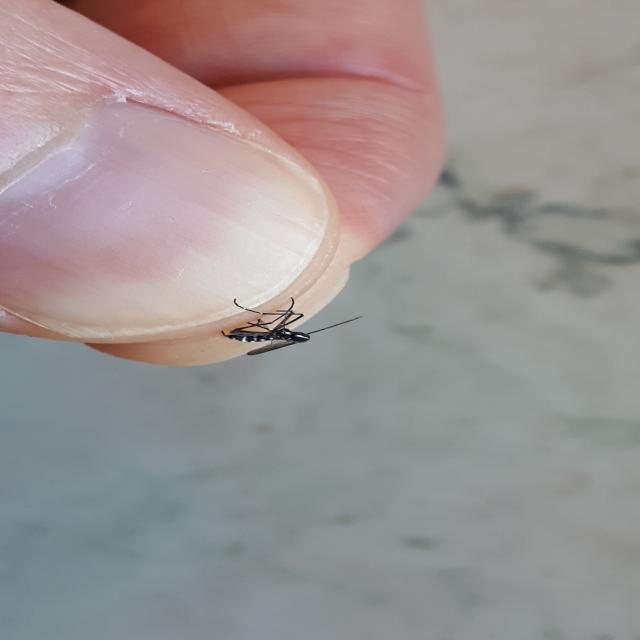albopictus: (217, 286, 366, 356)
